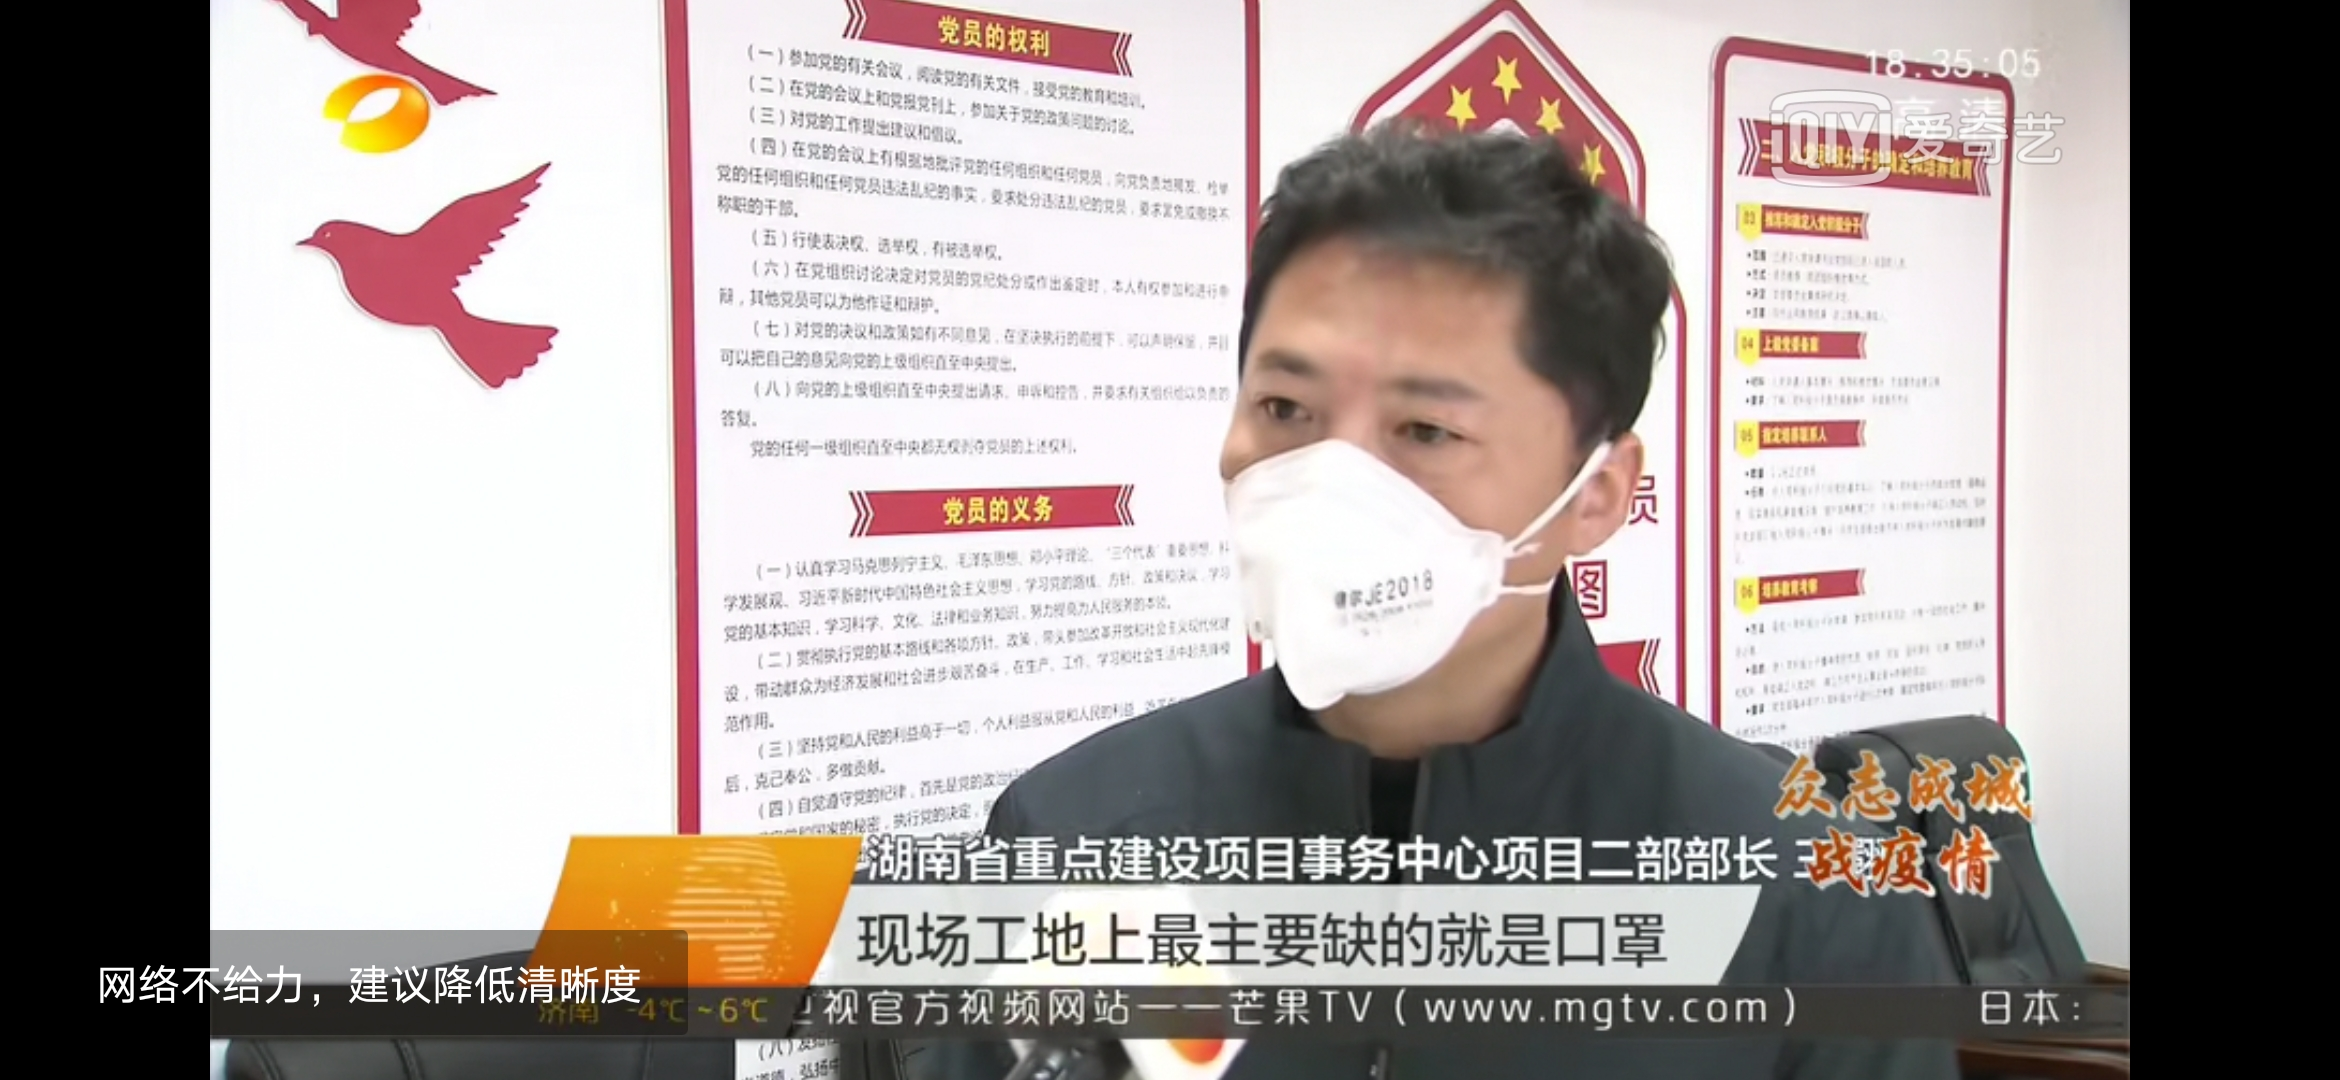correctlyWear: (1216, 292, 1642, 712)
